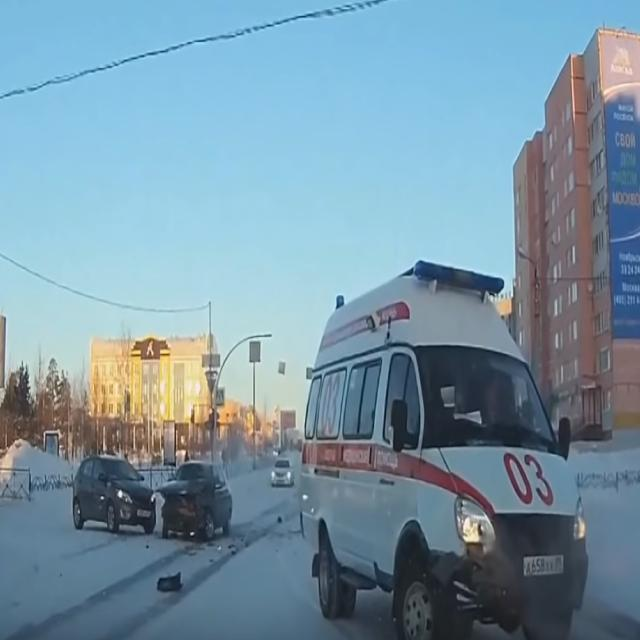ambulance: (302, 258, 590, 638)
non emergency car: (71, 449, 157, 538), (162, 459, 235, 543), (271, 458, 295, 491)
